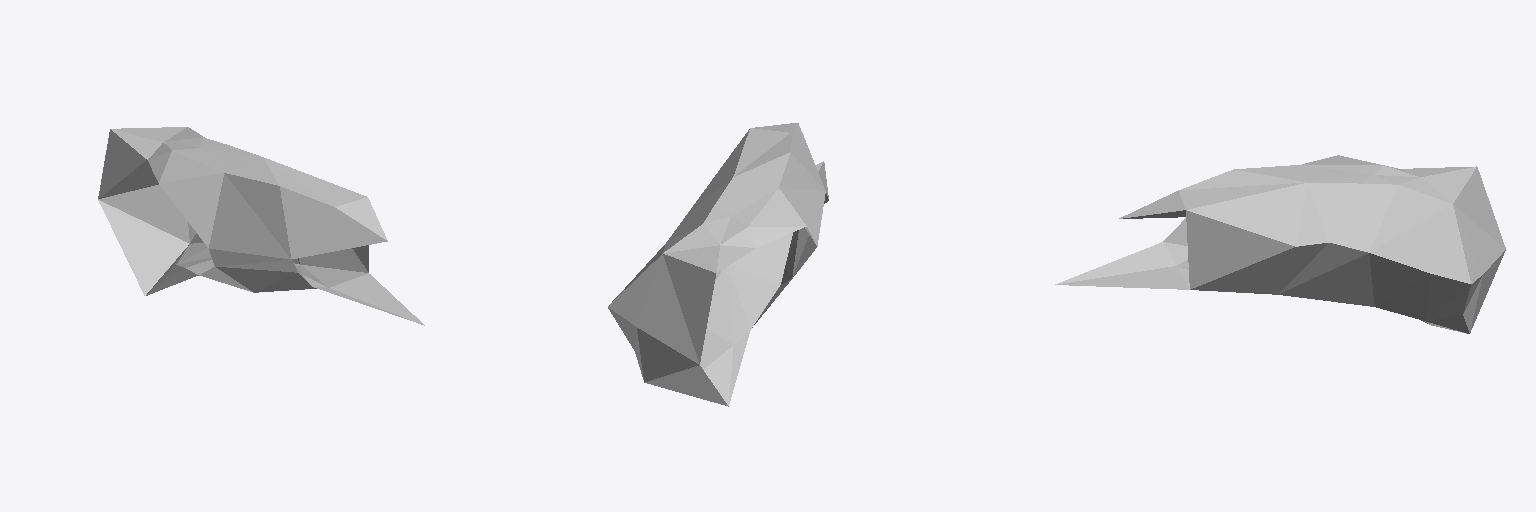
Rendered from arm-right.obj.
The picture shows the model from 3 angles: view 1: azimuth 30°, elevation 25°; view 2: azimuth 150°, elevation 25°; view 3: azimuth 270°, elevation 25°; orthographic projection.
Parts seen in each view (by area): view 1: arm_right.001_Superhot_Enemy_Stl.019; view 2: arm_right.001_Superhot_Enemy_Stl.019; view 3: arm_right.001_Superhot_Enemy_Stl.019.
Boxes of the visible parts, x1,y1,x2,y2 form: arm_right.001_Superhot_Enemy_Stl.019: [98, 127, 424, 325]; arm_right.001_Superhot_Enemy_Stl.019: [608, 123, 828, 406]; arm_right.001_Superhot_Enemy_Stl.019: [1055, 155, 1505, 333].
Bounding box in the file's own units: 11.49 × 14.02 × 33.08.